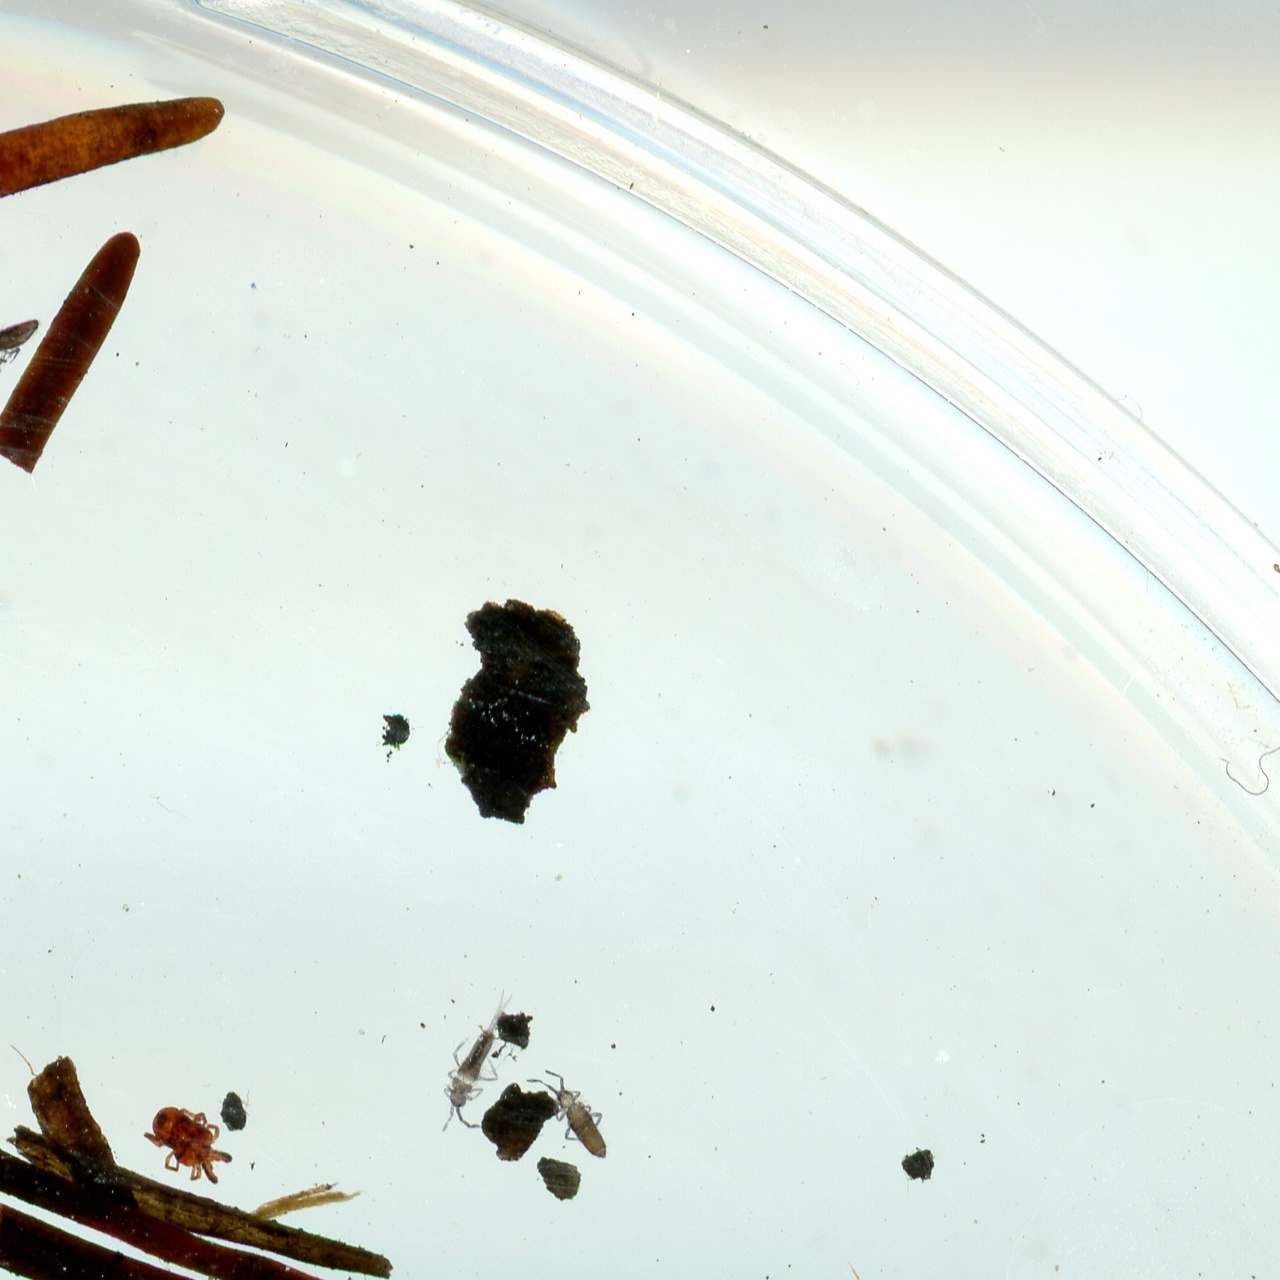arthropod: (427, 971, 530, 1145), (517, 1047, 625, 1184), (141, 1096, 239, 1190), (0, 289, 51, 415)
